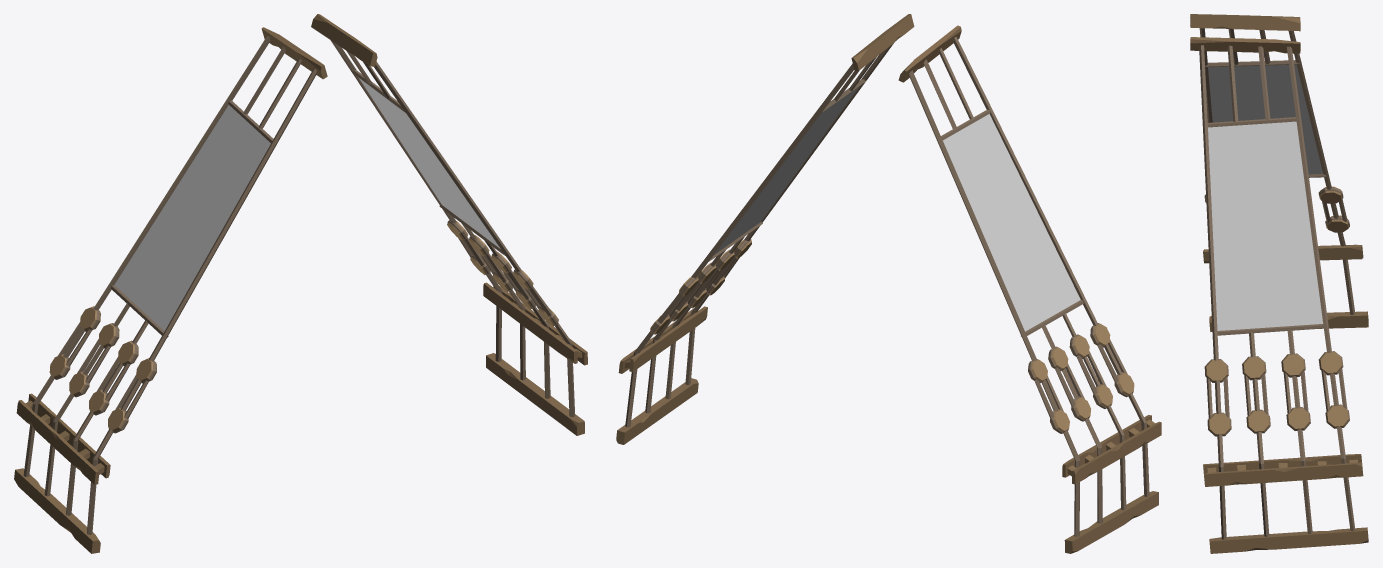
The model's file is SM_Veh_Ship_L_01_Ratlines_Back_03.fbx.
3 views of the same model, side by side, from view 1: azimuth 30°, elevation 25°; view 2: azimuth 150°, elevation 25°; view 3: azimuth 270°, elevation 25° (orthographic). The views are drawn at different scales.
Visible parts, largest first — view 1: SM_Veh_Ship_L_01_Ratlines_Back_03; view 2: SM_Veh_Ship_L_01_Ratlines_Back_03; view 3: SM_Veh_Ship_L_01_Ratlines_Back_03.
Part boxes in pixels (x1,y1,x2,y2): SM_Veh_Ship_L_01_Ratlines_Back_03: (14, 14, 587, 553); SM_Veh_Ship_L_01_Ratlines_Back_03: (616, 14, 1161, 553); SM_Veh_Ship_L_01_Ratlines_Back_03: (1190, 14, 1368, 553).
Size of the model in its own units: 975 by 836 by 326.
